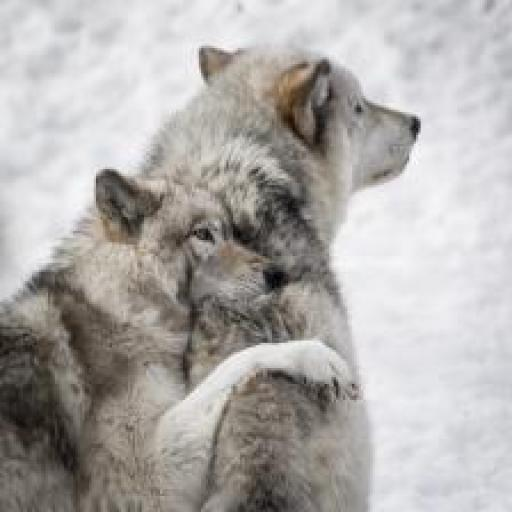wolf: (130, 36, 425, 512), (0, 135, 361, 512)
